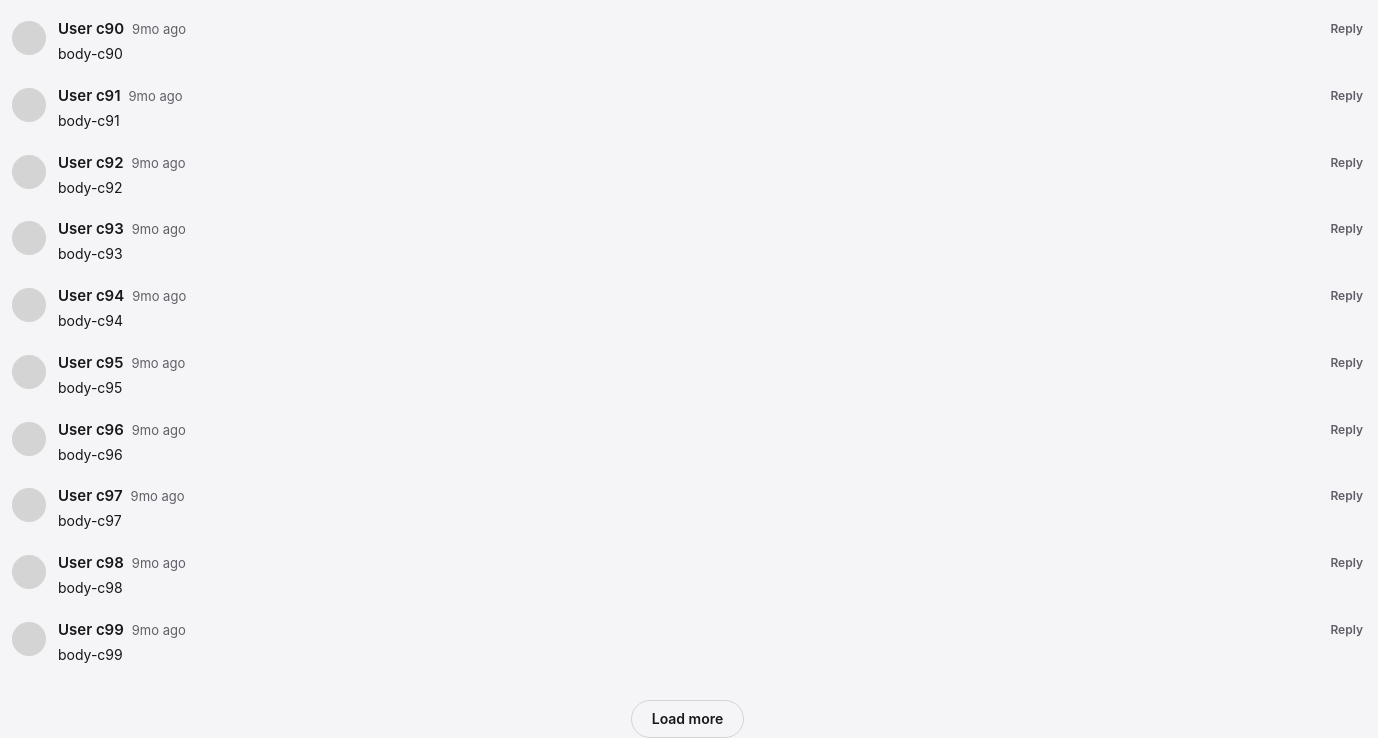
CommentsSection block removes the author's comments at once › loads the next 100 comments under a Load more button and hides it at the total
(page scrolled)
Expected: the text "the hundred-and-first" is not shown
Click the button "Load more". click: [687, 718]
box: [631,700,744,737]
(page scrolled)
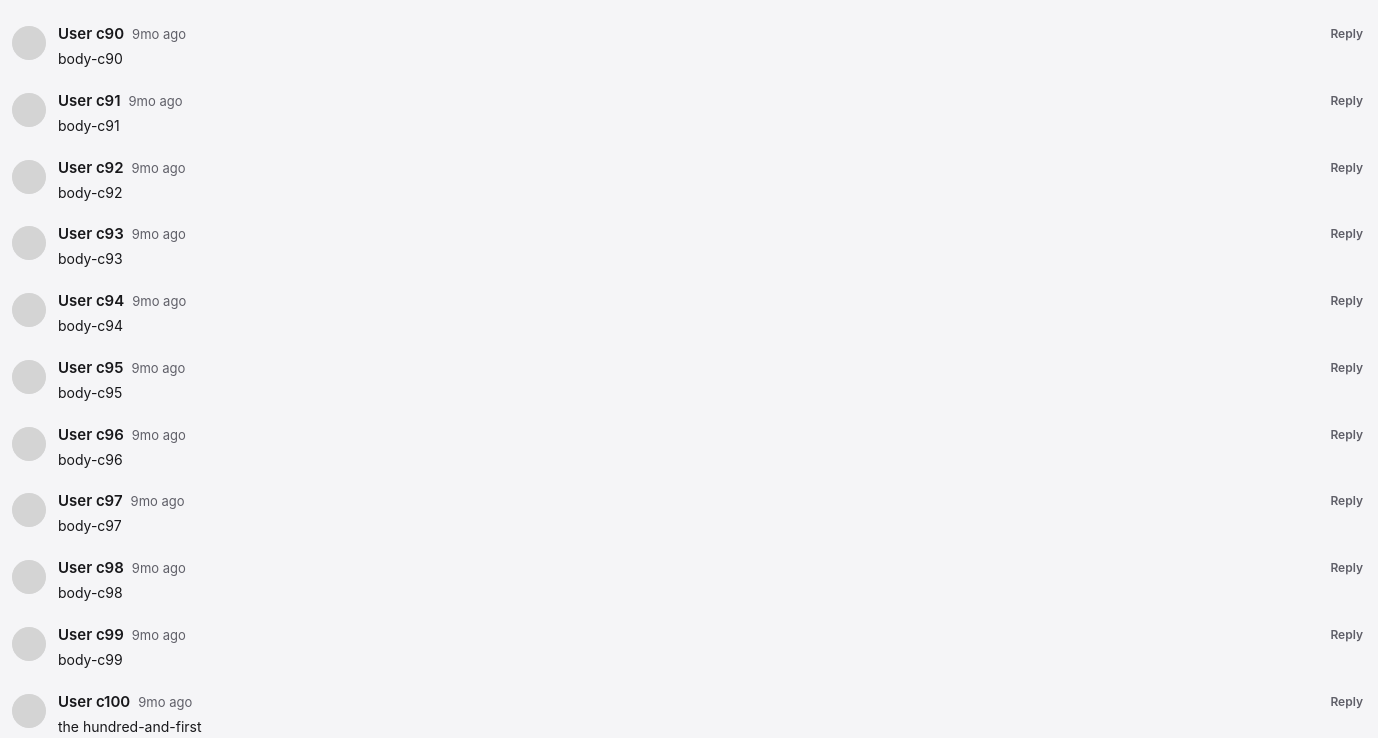
Now the text "the hundred-and-first" is shown, box [58,718,202,734]
Now the button "Load more" is gone
